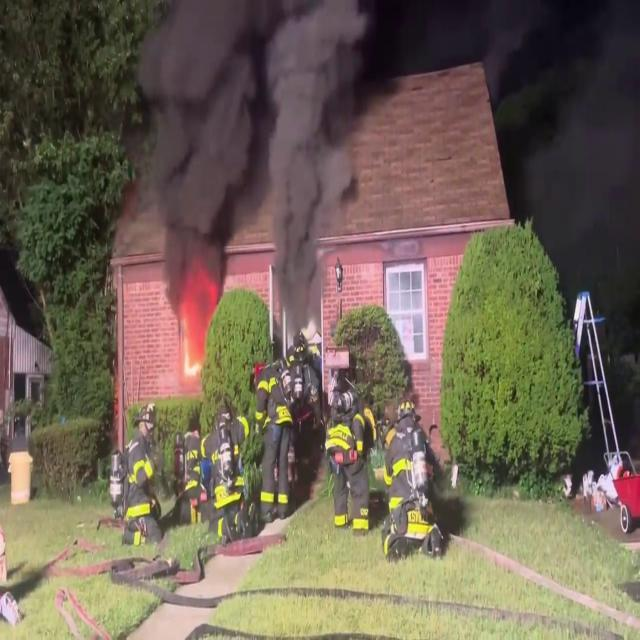Smoke: (116, 0, 369, 301), (510, 0, 640, 314)
